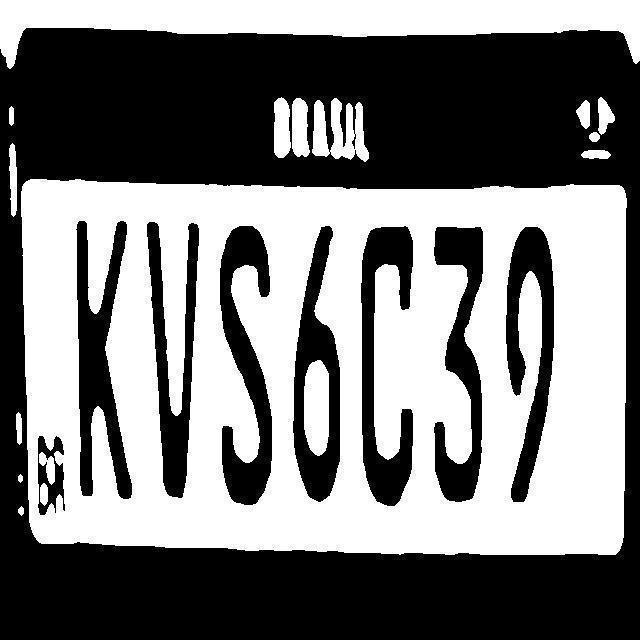3: (430, 224, 496, 520)
6: (276, 217, 346, 522)
9: (497, 223, 566, 532)
c: (354, 216, 419, 516)
k: (68, 212, 144, 520)
s: (206, 214, 278, 516)
v: (140, 214, 201, 512)
